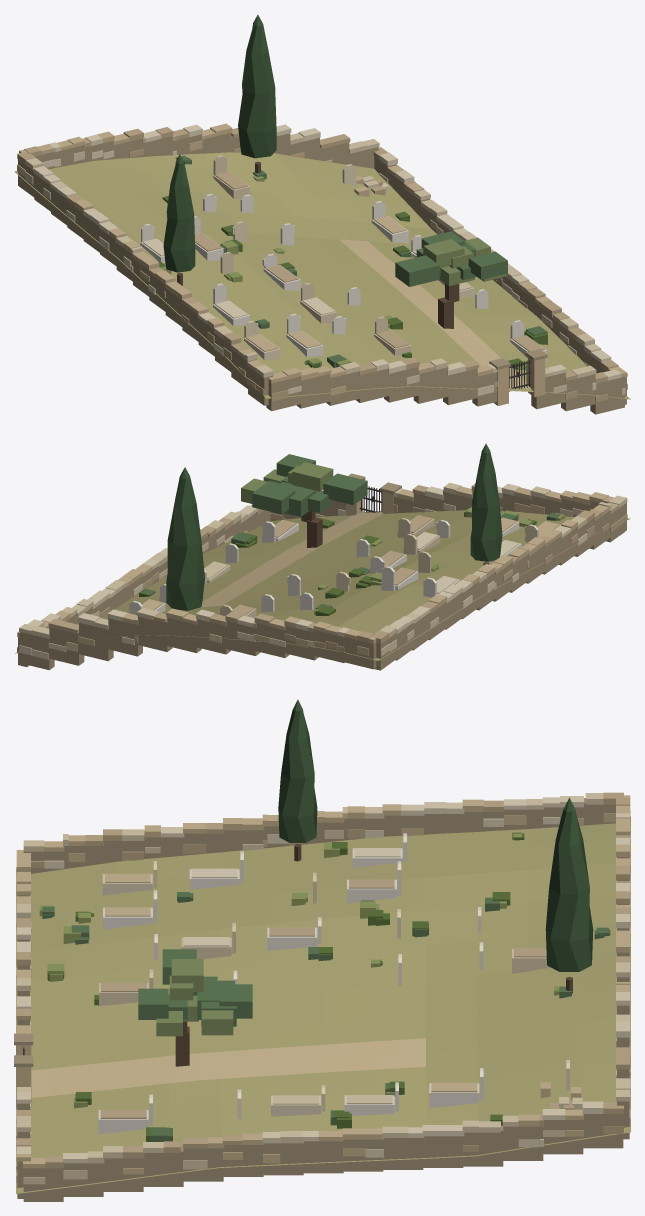
Rendered from rum-mezarligi.glb.
3 renders of one model, top to bottom at view 1: azimuth 30°, elevation 25°; view 2: azimuth 150°, elevation 25°; view 3: azimuth 270°, elevation 25°, orthographic. The views are drawn at different scales.
Visible parts, largest first — view 1: kuru_ot, tas_koyu, tas2, tas4, servi, tas1, tas3, mermer, zeytin, toprak, zeytin_yaprak, asma2 (+2 smaller); view 2: tas_koyu, kuru_ot, servi, tas2, tas4, tas1, tas3, zeytin, mermer, toprak, zeytin_yaprak, asma2 (+3 smaller); view 3: kuru_ot, tas_koyu, tas2, toprak, servi, tas4, tas1, tas3, mermer, zeytin, zeytin_yaprak, asma2 (+2 smaller).
Part boxes in pixels (bbox=[...]): kuru_ot: bbox=[14, 152, 630, 399]; tas_koyu: bbox=[18, 133, 626, 414]; tas2: bbox=[19, 123, 627, 405]; tas4: bbox=[33, 124, 621, 395]; servi: bbox=[163, 15, 276, 272]; tas1: bbox=[17, 133, 627, 395]; tas3: bbox=[17, 127, 618, 402]; mermer: bbox=[140, 193, 546, 362]; zeytin: bbox=[175, 155, 547, 369]; toprak: bbox=[339, 239, 530, 388]; zeytin_yaprak: bbox=[423, 237, 507, 286]; asma2: bbox=[158, 196, 547, 368]; tas_koyu: bbox=[18, 473, 626, 670]; kuru_ot: bbox=[15, 510, 630, 660]; servi: bbox=[166, 443, 502, 610]; tas2: bbox=[41, 486, 618, 655]; tas4: bbox=[19, 483, 587, 659]; tas1: bbox=[19, 482, 627, 656]; tas3: bbox=[17, 483, 627, 652]; zeytin: bbox=[142, 454, 560, 609]; mermer: bbox=[129, 518, 521, 614]; toprak: bbox=[201, 512, 383, 606]; zeytin_yaprak: bbox=[241, 462, 333, 503]; asma2: bbox=[139, 511, 536, 615]; kuru_ot: bbox=[16, 816, 630, 1193]; tas_koyu: bbox=[14, 798, 629, 1201]; tas2: bbox=[16, 795, 630, 1174]; toprak: bbox=[31, 1038, 425, 1097]; servi: bbox=[278, 699, 593, 971]; tas4: bbox=[16, 796, 630, 1163]; tas1: bbox=[16, 793, 630, 1184]; tas3: bbox=[16, 792, 630, 1169]; mermer: bbox=[98, 833, 483, 1134]; zeytin: bbox=[42, 892, 608, 1141]; zeytin_yaprak: bbox=[156, 959, 233, 1036]; asma2: bbox=[48, 832, 610, 1141].
Size of the model in its own units: 20 by 13.71 by 24.08.
